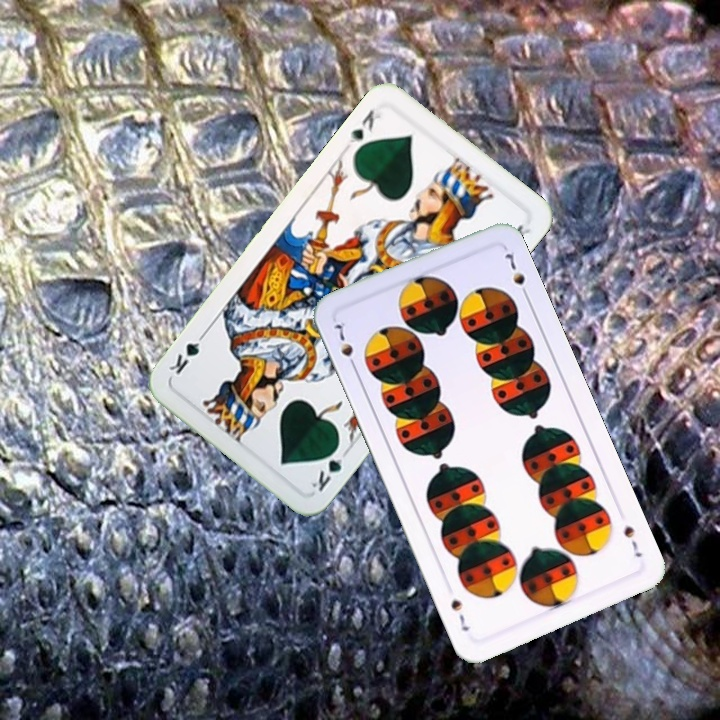GK: (307, 440, 352, 495), (345, 105, 384, 147)
S7: (331, 317, 360, 373), (619, 522, 645, 560)
